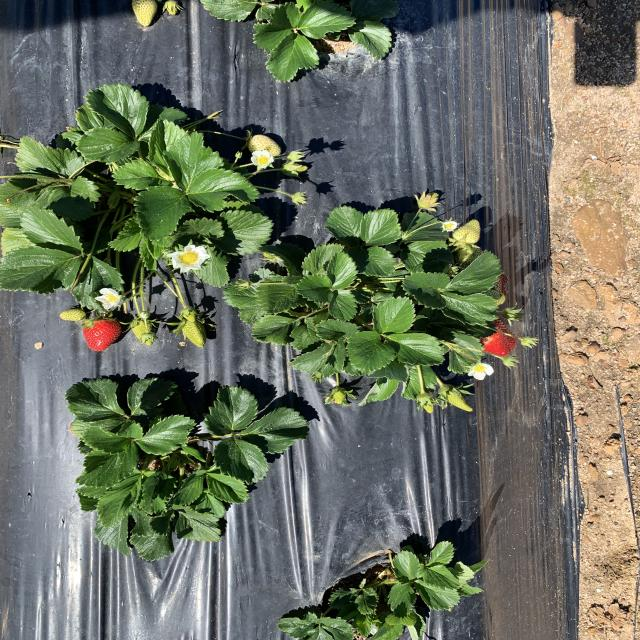unripe: (473, 318, 518, 358), (79, 314, 124, 352)
